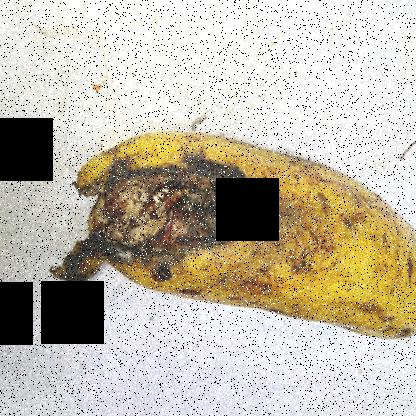rotten: (41, 120, 273, 334)
